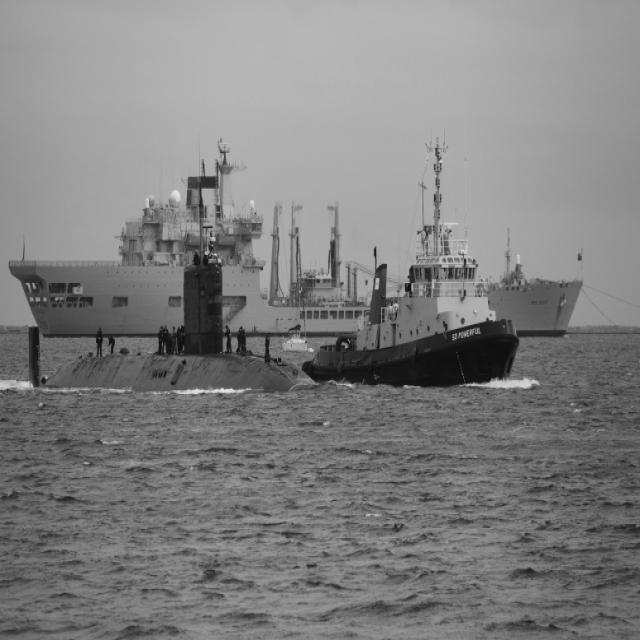submarine: (28, 262, 315, 395)
